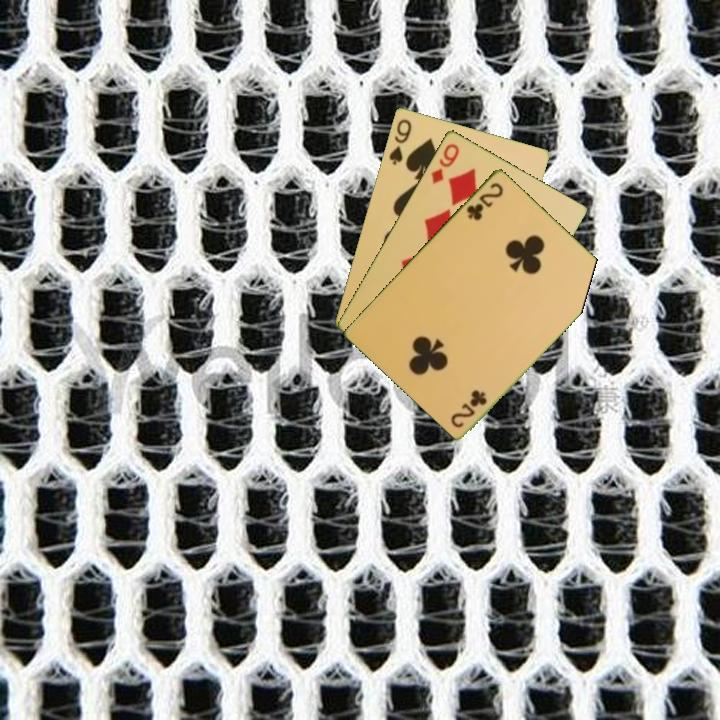2c: (463, 179, 506, 223), (447, 386, 490, 430)
9d: (427, 139, 462, 186)
9s: (385, 115, 414, 167)
